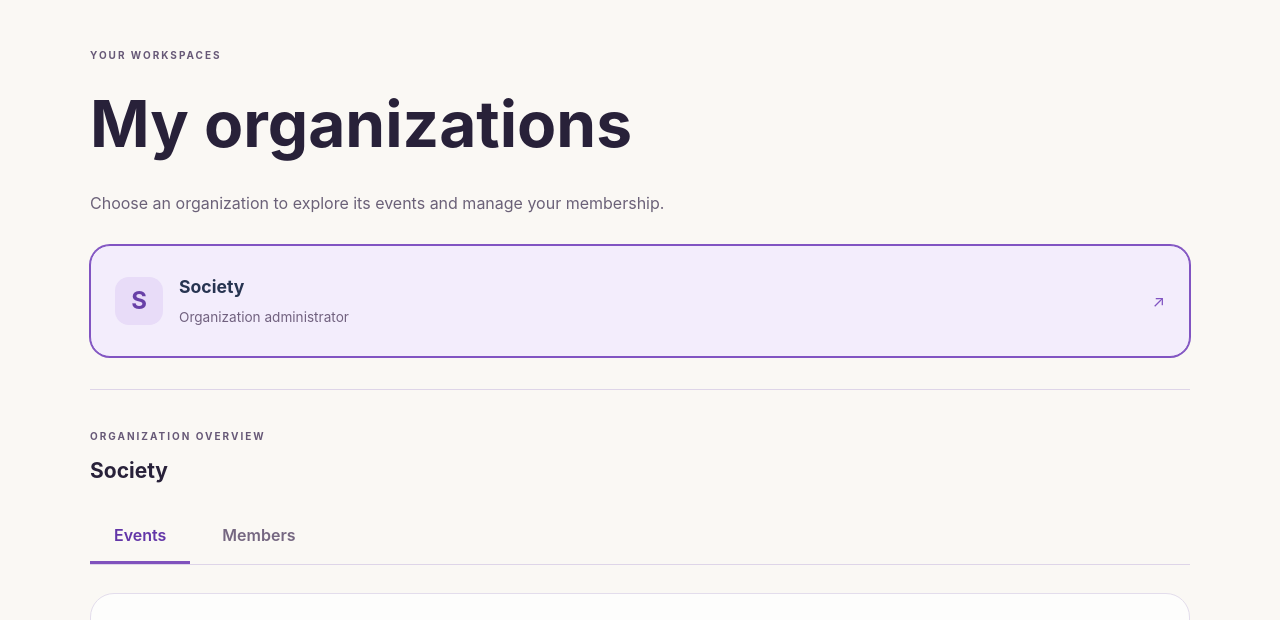
Scenario: defaults to scoped events and separates member management
Check: the text "Invite a registered user" is not shown
Click the link "Members" at coordinates (259, 535), box x1=222 y1=525 x2=296 y2=545
(page scrolled)
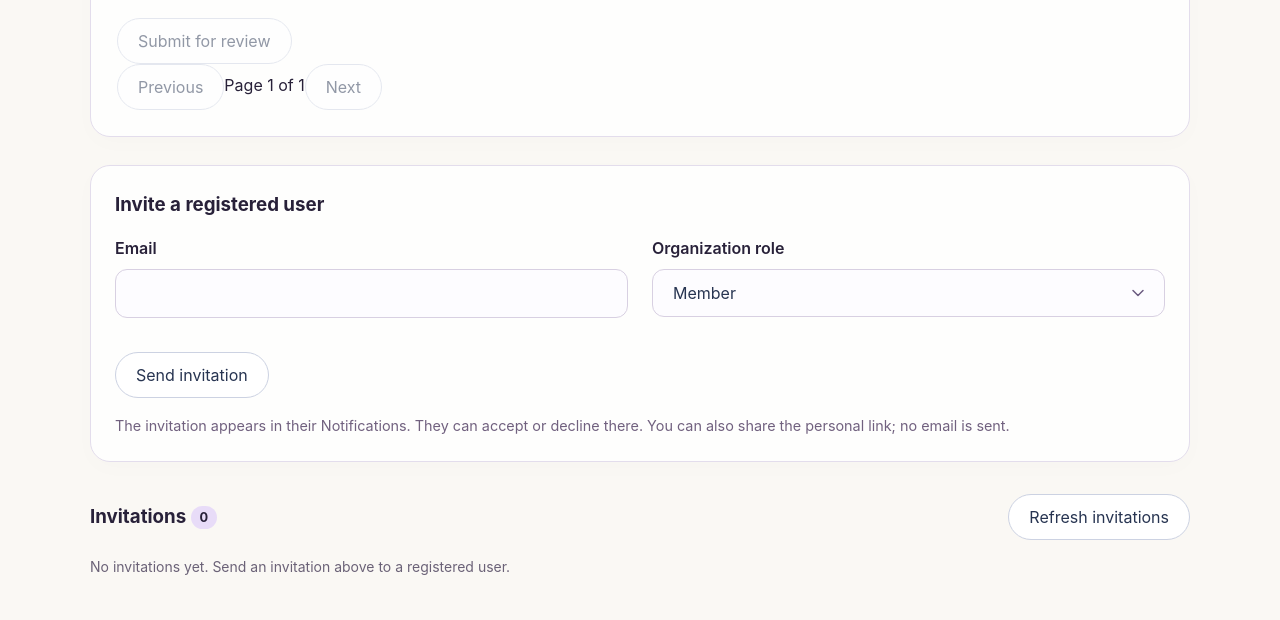
Check: the heading "Invite a registered user" is shown, box x1=115 y1=193 x2=324 y2=216
Click the dropdown named "Organization role" at coordinates (704, 293), box x1=652 y1=269 x2=1165 y2=317
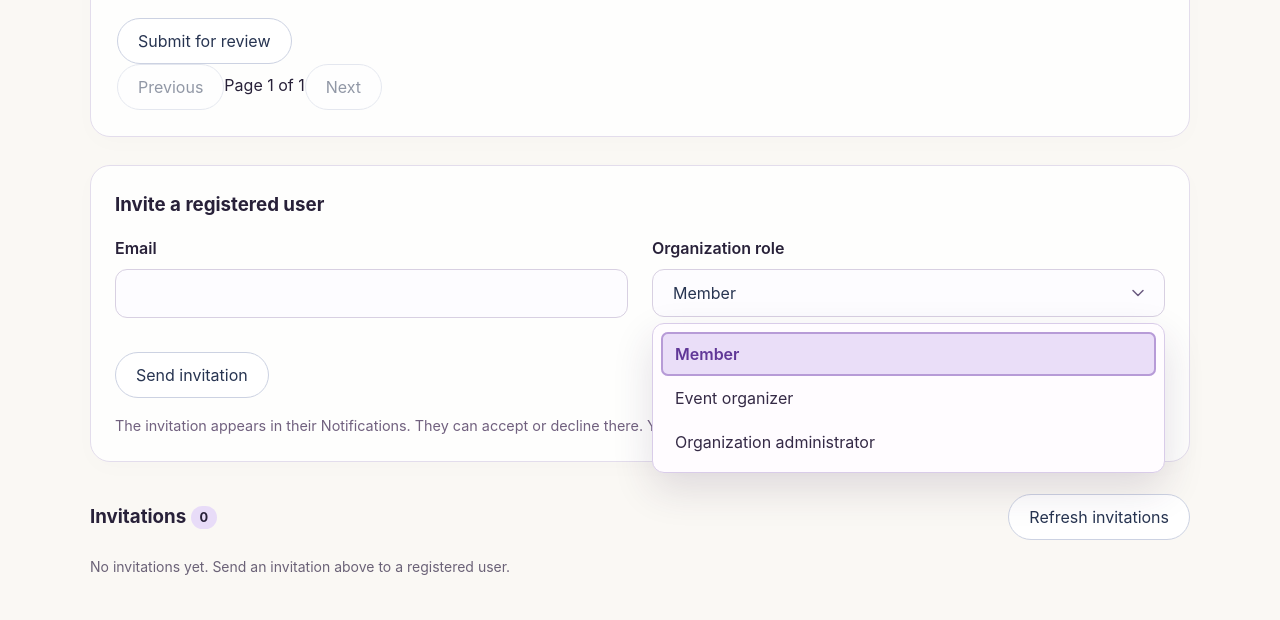
Click the option "Event organizer" at coordinates (734, 398), box x1=661 y1=376 x2=1156 y2=420
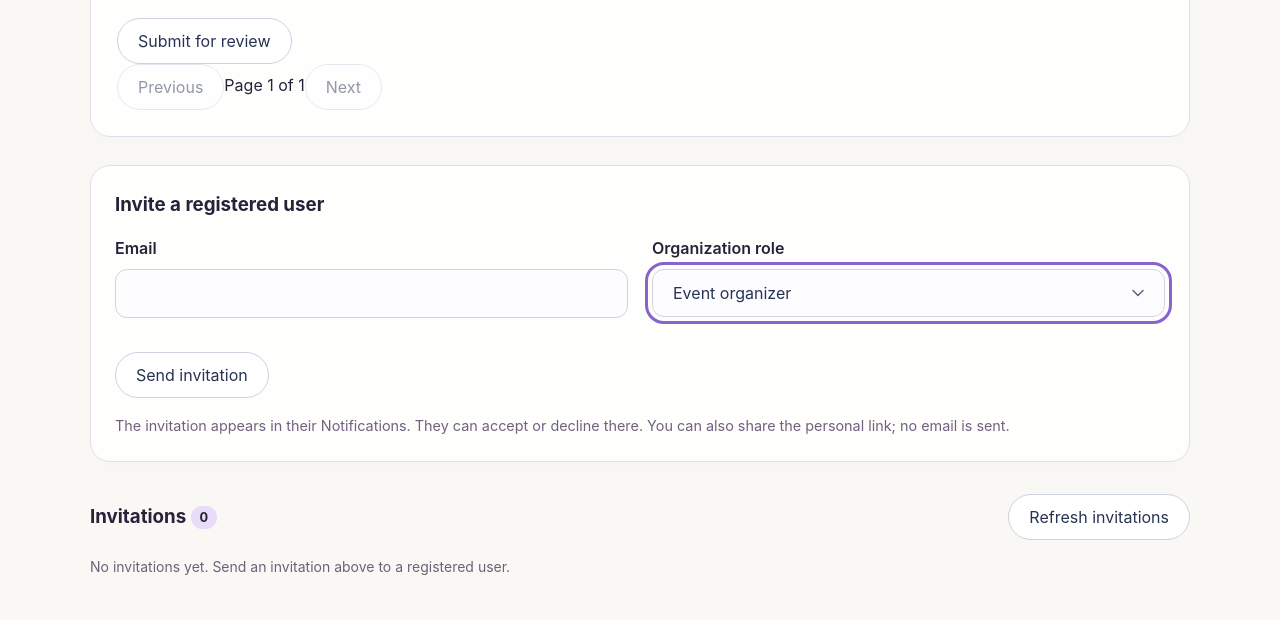
Check: the dropdown named "Organization role" reads "Event organizer", box x1=652 y1=269 x2=1165 y2=317
